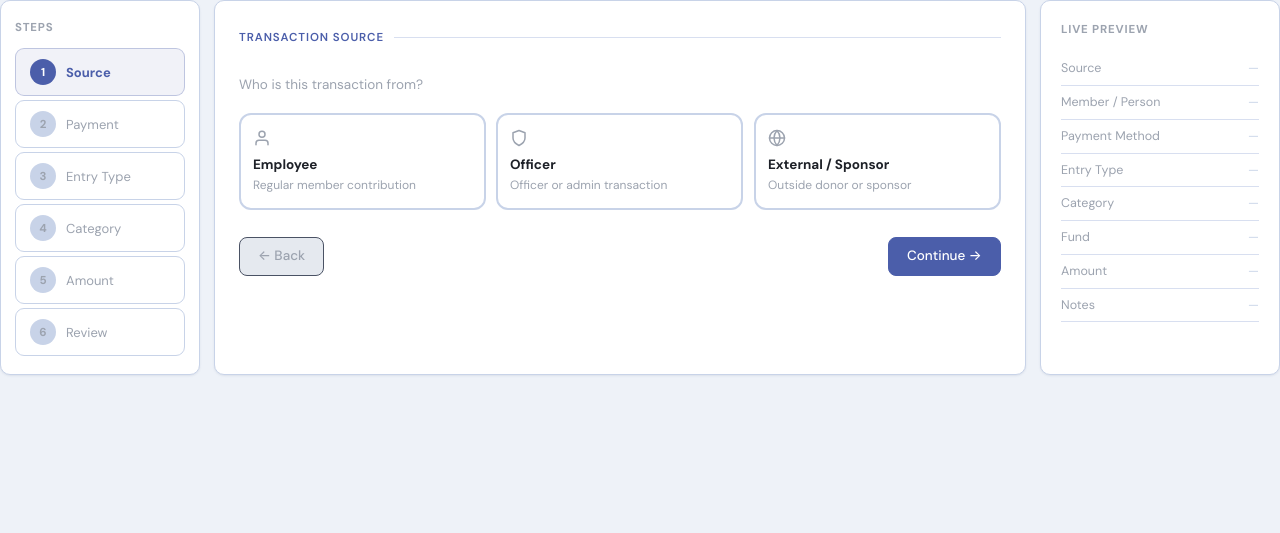
it: AddTransaction wizard › Continue is blocked with an error until a source (and a person for member/officer) is chosen
Click the button "Continue →": {"x": 945, "y": 257} [888,237,1001,276]
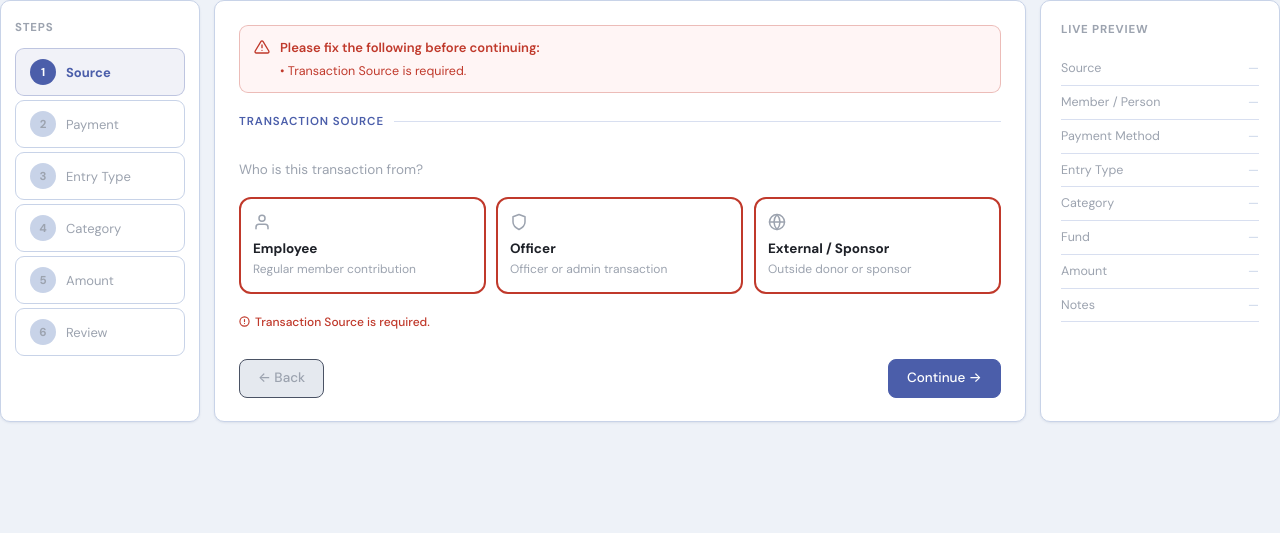
expect the text "Transaction Source is required." is shown: met, box [288,62,466,78]
Click the button "Employee Regular member contribution": {"x": 363, "y": 245} [239,197,486,294]
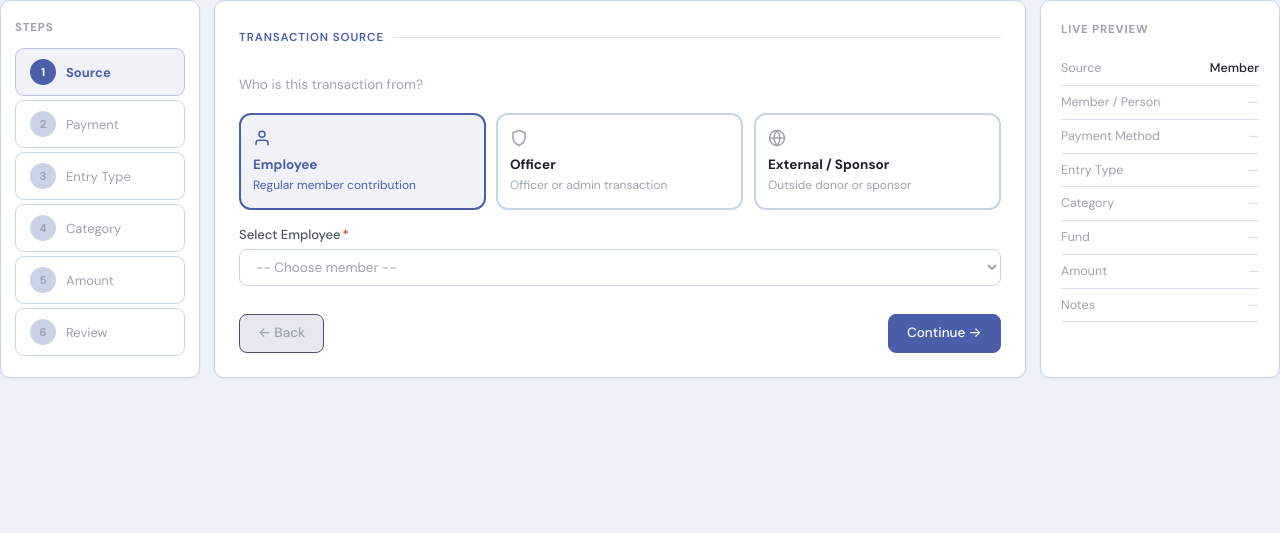
Click the button "Continue →": {"x": 945, "y": 333} [888,314,1001,353]
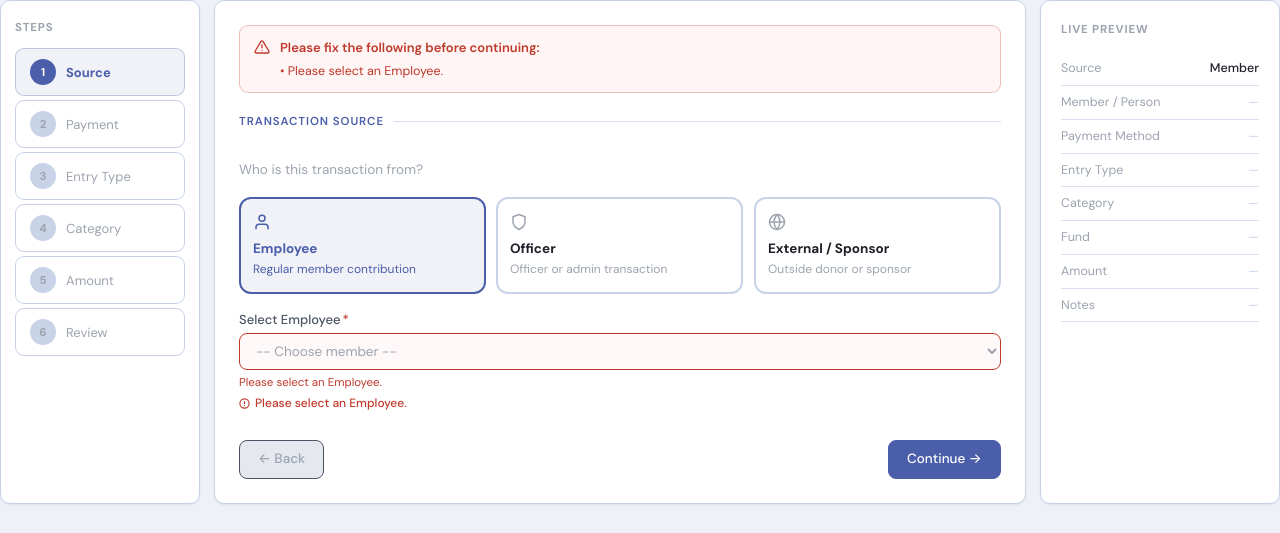
expect the text "Please select an Employee." is shown: met, box [288,62,443,78]
Select "Juan Dela Cruz" in the dropdown: {"x": 620, "y": 352} [239,333,1001,370]
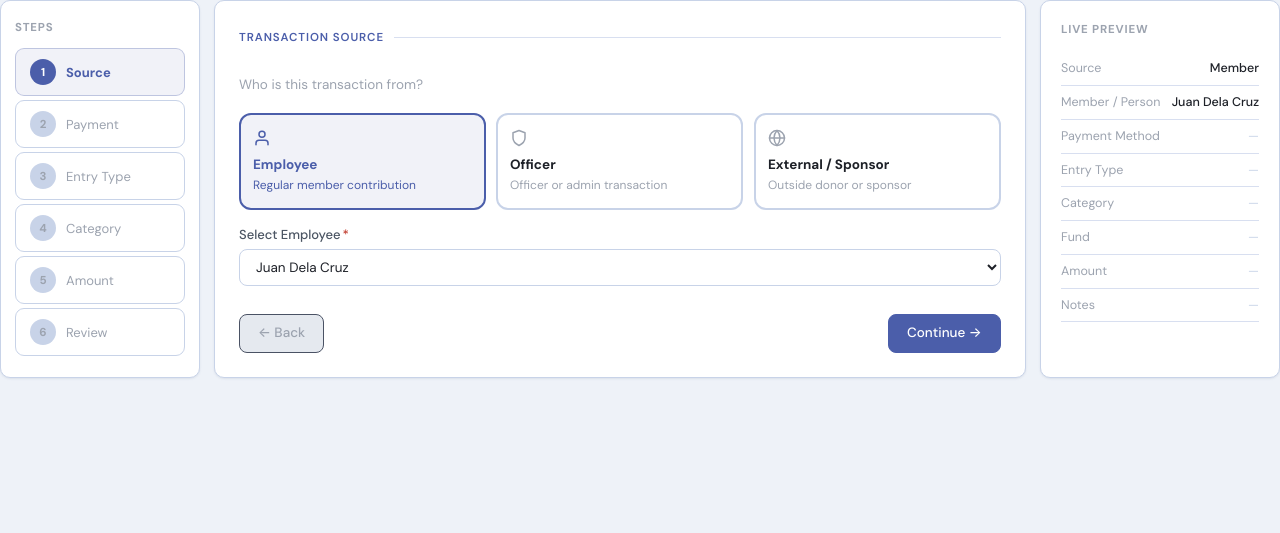
Click the button "Continue →": {"x": 945, "y": 333} [888,314,1001,353]
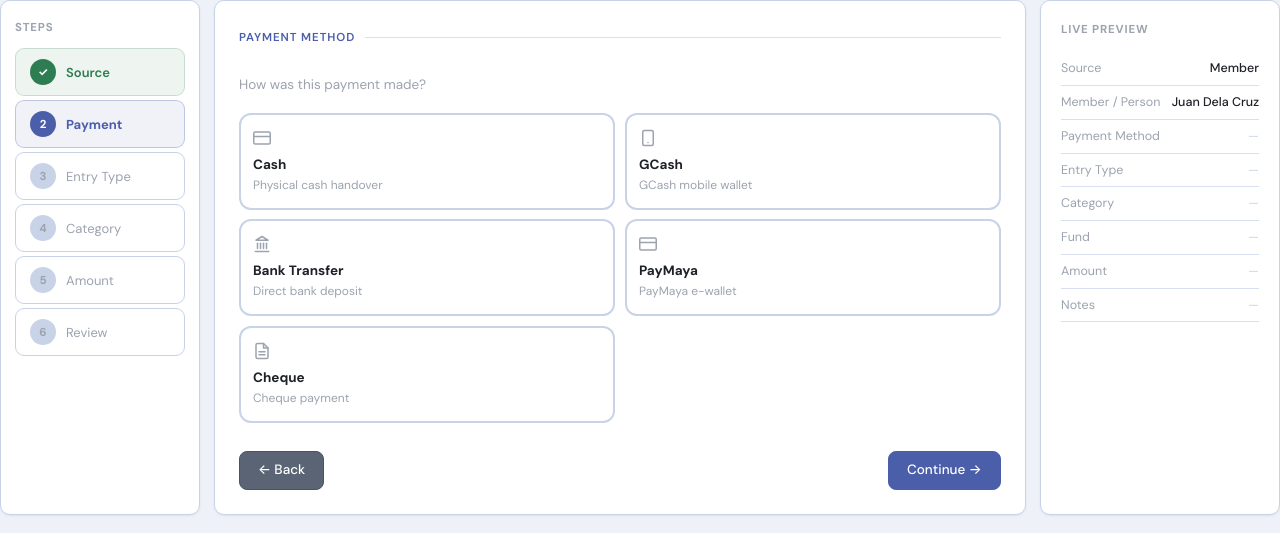
expect the text "How was this payment made?" is shown: met, box [239,76,426,93]
